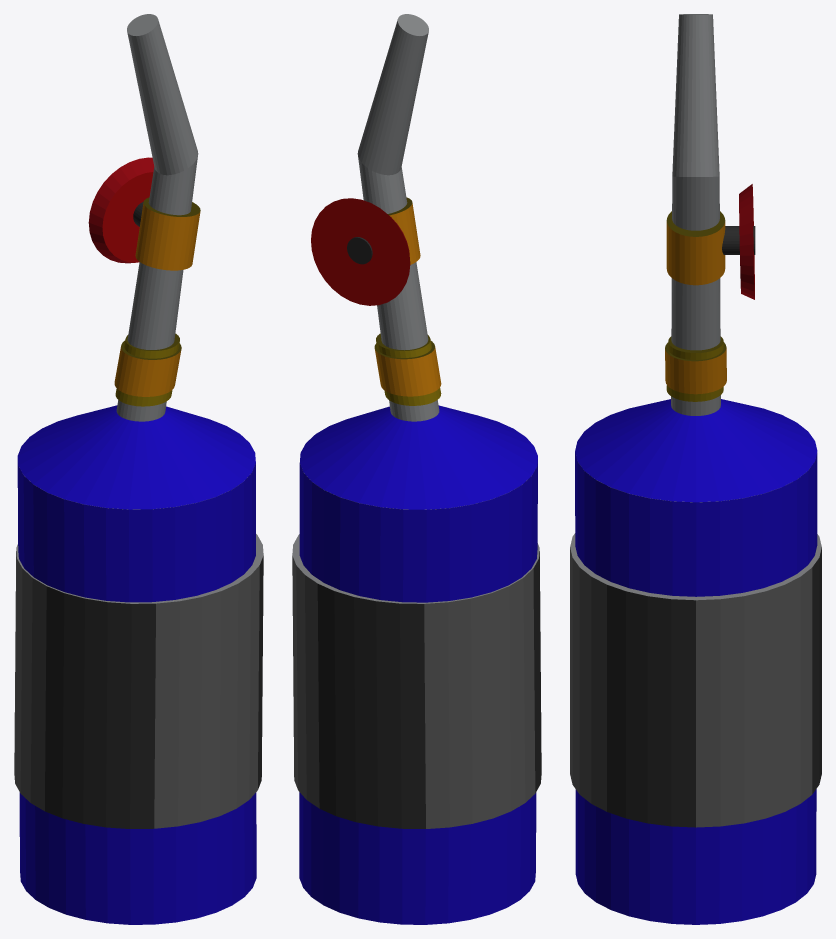
The model's file is Blowtorch.fbx.
3 renders of one model, left to right at view 1: azimuth 30°, elevation 25°; view 2: azimuth 150°, elevation 25°; view 3: azimuth 270°, elevation 25°, orthographic.
Parts seen in each view (by area): view 1: Blowtorch; view 2: Blowtorch; view 3: Blowtorch.
Part boxes in pixels (x1=…): Blowtorch: x1=14, y1=14, x2=263, y2=924; Blowtorch: x1=292, y1=14, x2=541, y2=924; Blowtorch: x1=570, y1=14, x2=821, y2=924.
Bounding box in the file's own units: 181 × 683 × 180.
